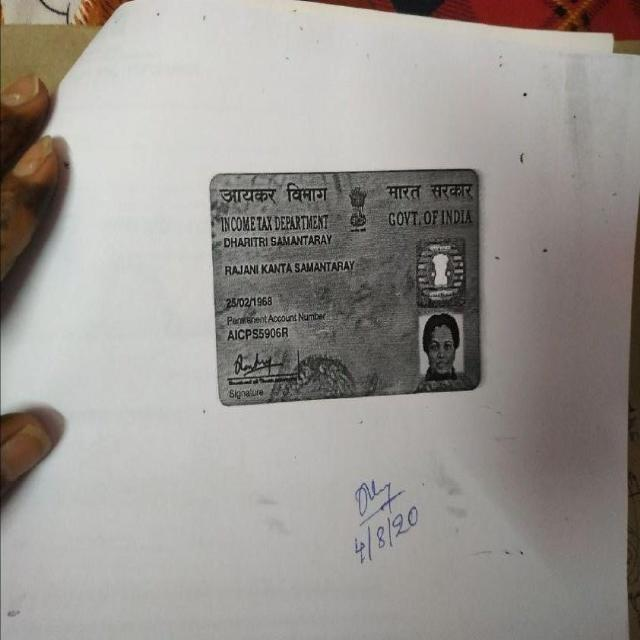pan_card: (209, 168, 484, 409)
